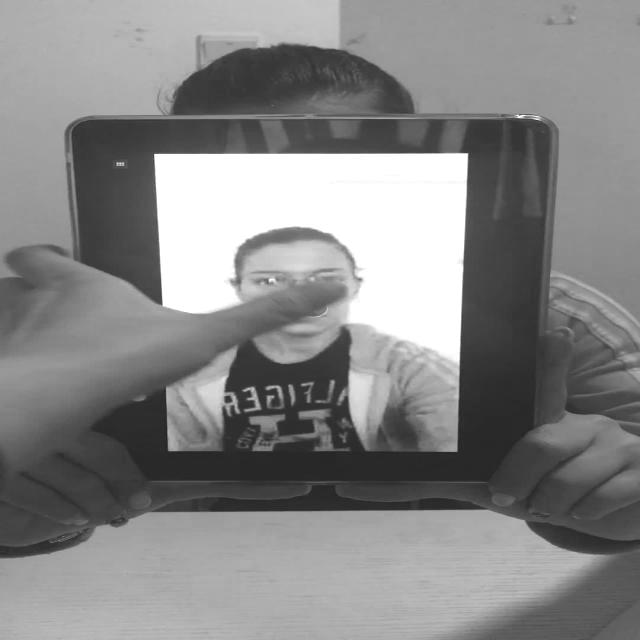fake: (61, 112, 567, 492)
